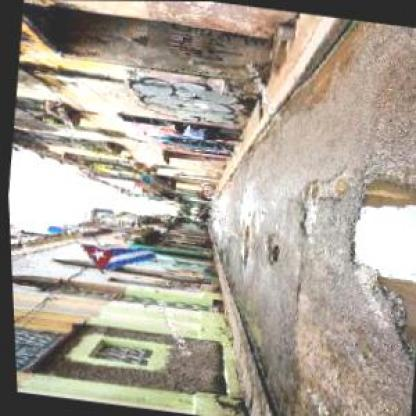pothole: (327, 169, 415, 368), (294, 164, 349, 202), (288, 176, 320, 237), (234, 223, 251, 269), (258, 232, 280, 266)
